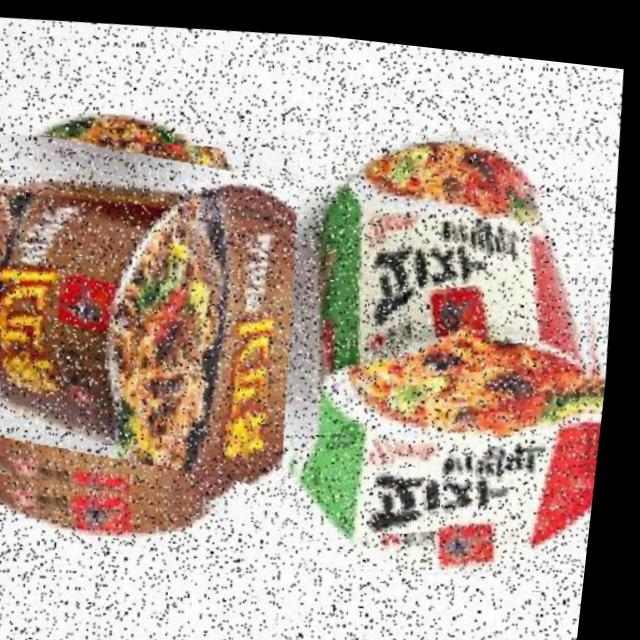Miscellaneous: (264, 91, 634, 582), (0, 115, 336, 531)
